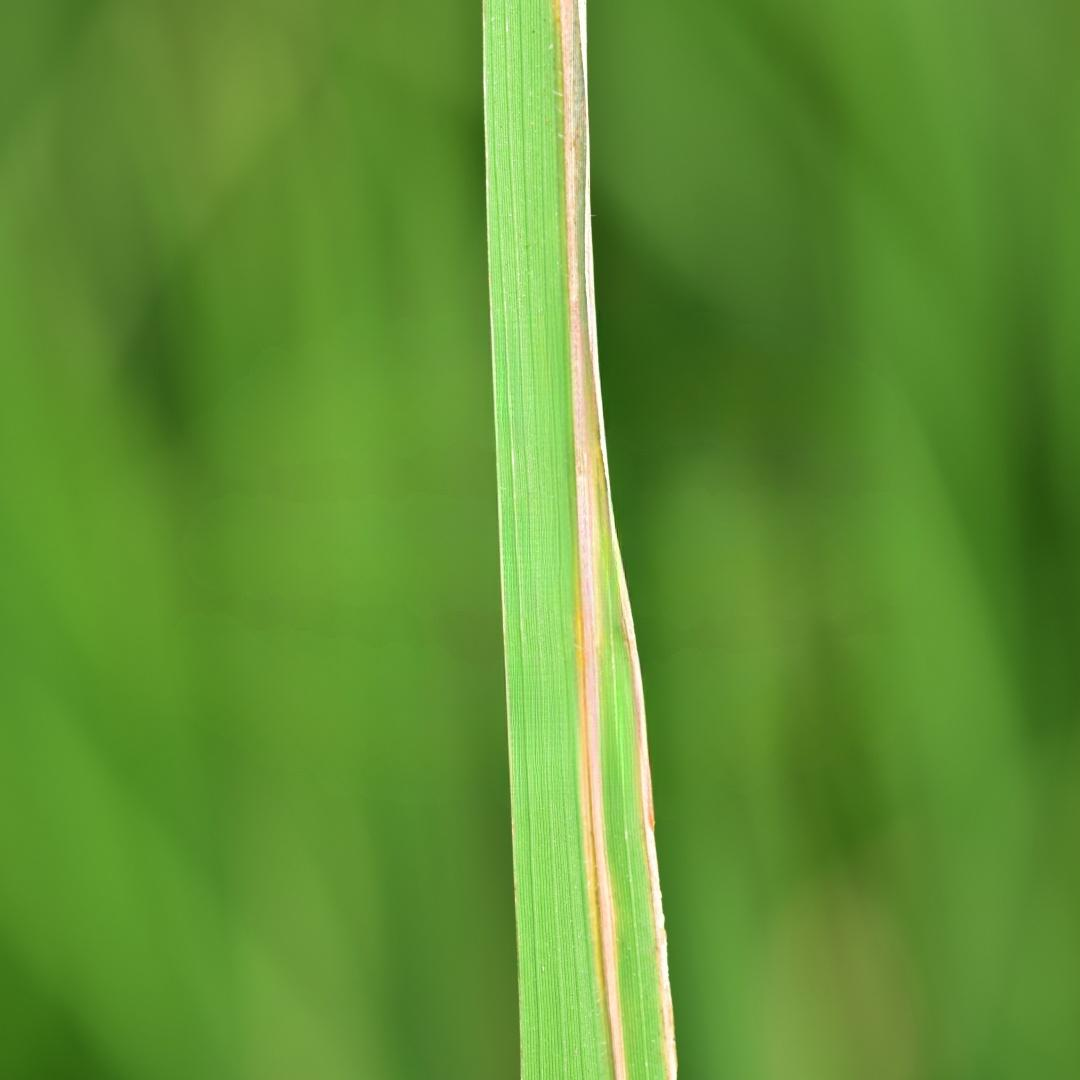BLB: (552, 0, 677, 1079)
LEAF: (483, 0, 677, 1079)
